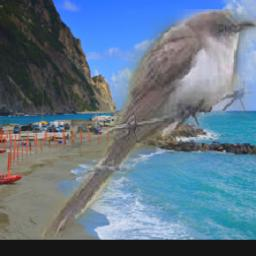Cuckoo: (40, 10, 256, 239)
